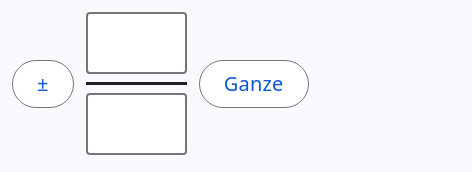
Test: fraction: Ganze, sign and fields › the toggles: Ganze opens the field, ± shows the sign, for every item whatever the answer
Click the button "Ganze" at (254, 84), box [199, 60, 309, 108]
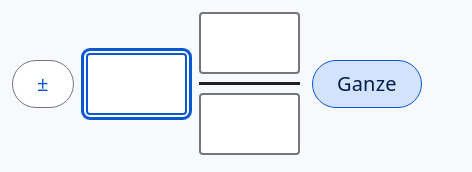
Type "2" into the field named "Ganze" at (136, 84), box [86, 52, 187, 114]
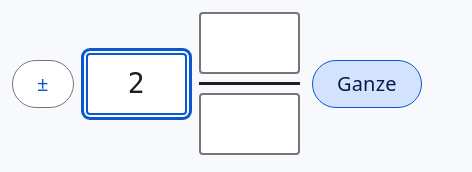
Click the button named "Vorzeichen: Minus" at (43, 84), box [12, 60, 74, 108]
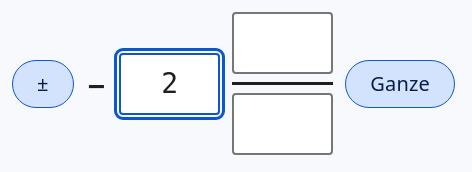
Expected: the text with class "ans-fraction__sign" reads "−", [86, 62, 107, 104]
